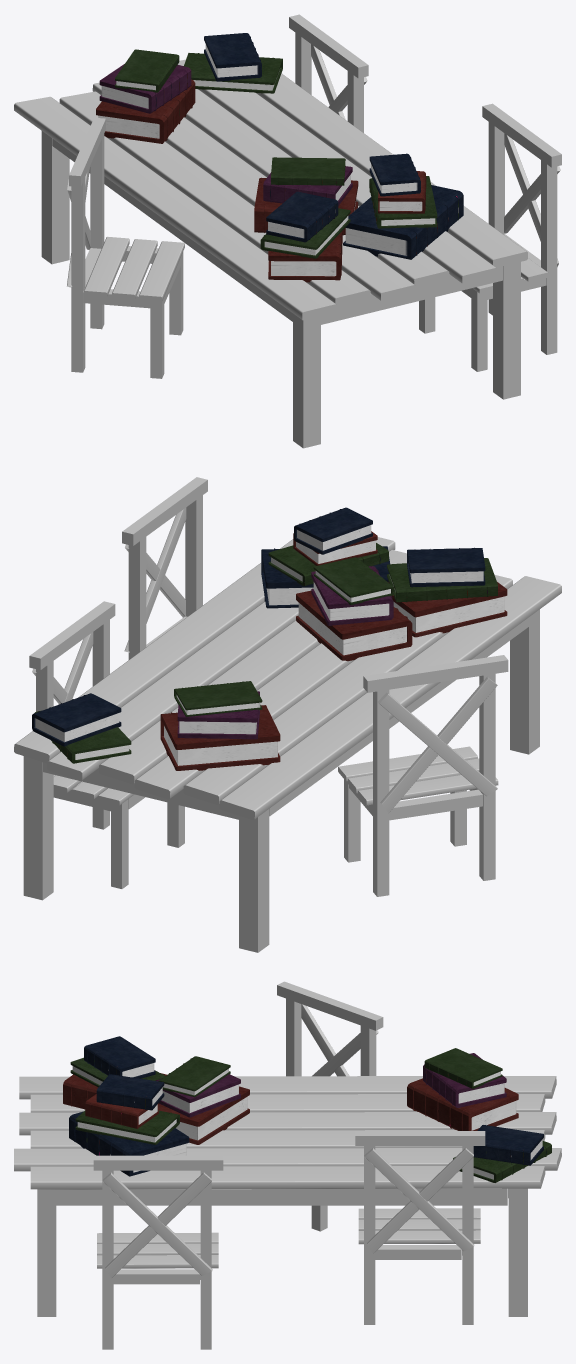
Rendered from SM_TableSet_03.fbx.
3 renders of one model, top to bottom at view 1: azimuth 30°, elevation 25°; view 2: azimuth 150°, elevation 25°; view 3: azimuth 270°, elevation 25°, orthographic. The views are drawn at different scales.
Parts seen in each view (by area): view 1: SM_Table_01.002, SM_Chair_01.011, SM_Chair_01.009, SM_Chair_01.010, BoolShelf_Low.093, BoolShelf_Low.095, BoolShelf_Low.088, BoolShelf_Low.086, BoolShelf_Low.090, BoolShelf_Low.096, BoolShelf_Low.087, BoolShelf_Low.055 (+7 smaller); view 2: SM_Table_01.002, SM_Chair_01.011, SM_Chair_01.010, SM_Chair_01.009, BoolShelf_Low.095, BoolShelf_Low.085, BoolShelf_Low.090, BoolShelf_Low.086, BoolShelf_Low.088, BoolShelf_Low.094, BoolShelf_Low.097, BoolShelf_Low.055 (+7 smaller); view 3: SM_Table_01.002, SM_Chair_01.009, SM_Chair_01.010, SM_Chair_01.011, BoolShelf_Low.095, BoolShelf_Low.093, BoolShelf_Low.088, BoolShelf_Low.086, BoolShelf_Low.085, BoolShelf_Low.097, BoolShelf_Low.092, BoolShelf_Low.094 (+7 smaller).
Boxes of the visible parts, x1,y1,x2,y2 form: SM_Table_01.002: (14, 59, 527, 448); SM_Chair_01.011: (67, 117, 184, 378); SM_Chair_01.009: (419, 103, 561, 371); SM_Chair_01.010: (289, 14, 368, 132); BoolShelf_Low.093: (343, 185, 463, 259); BoolShelf_Low.095: (96, 79, 195, 143); BoolShelf_Low.088: (266, 191, 338, 242); BoolShelf_Low.086: (204, 33, 261, 81); BoolShelf_Low.090: (268, 230, 342, 282); BoolShelf_Low.096: (99, 64, 191, 113); BoolShelf_Low.087: (184, 53, 282, 93); BoolShelf_Low.055: (271, 157, 345, 185); SM_Table_01.002: (14, 537, 561, 952); SM_Chair_01.011: (338, 655, 508, 896); SM_Chair_01.010: (29, 601, 184, 888); SM_Chair_01.009: (122, 477, 207, 659); BoolShelf_Low.095: (160, 705, 280, 770); BoolShelf_Low.085: (296, 590, 412, 661); BoolShelf_Low.090: (388, 582, 507, 637); BoolShelf_Low.086: (32, 693, 121, 746); BoolShelf_Low.088: (407, 547, 485, 587); BoolShelf_Low.094: (294, 507, 372, 554); BoolShelf_Low.097: (174, 681, 262, 716); BoolShelf_Low.055: (313, 557, 394, 604); SM_Table_01.002: (14, 1076, 561, 1316); SM_Chair_01.009: (93, 1155, 223, 1349); SM_Chair_01.010: (355, 1131, 485, 1324); SM_Chair_01.011: (277, 981, 383, 1231); BoolShelf_Low.095: (407, 1078, 518, 1130); BoolShelf_Low.093: (69, 1111, 189, 1176); BoolShelf_Low.088: (84, 1036, 155, 1078); BoolShelf_Low.086: (473, 1125, 543, 1165); BoolShelf_Low.085: (157, 1086, 249, 1144); BoolShelf_Low.097: (424, 1048, 502, 1088); BoolShelf_Low.092: (75, 1110, 179, 1144); BoolShelf_Low.094: (96, 1074, 164, 1110).
Size of the model in its own units: 230 by 116 by 294.
